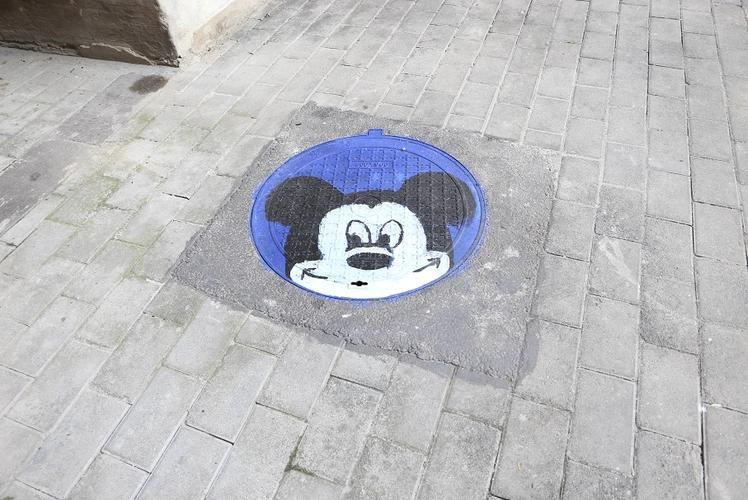wellcover: (248, 117, 517, 321)
